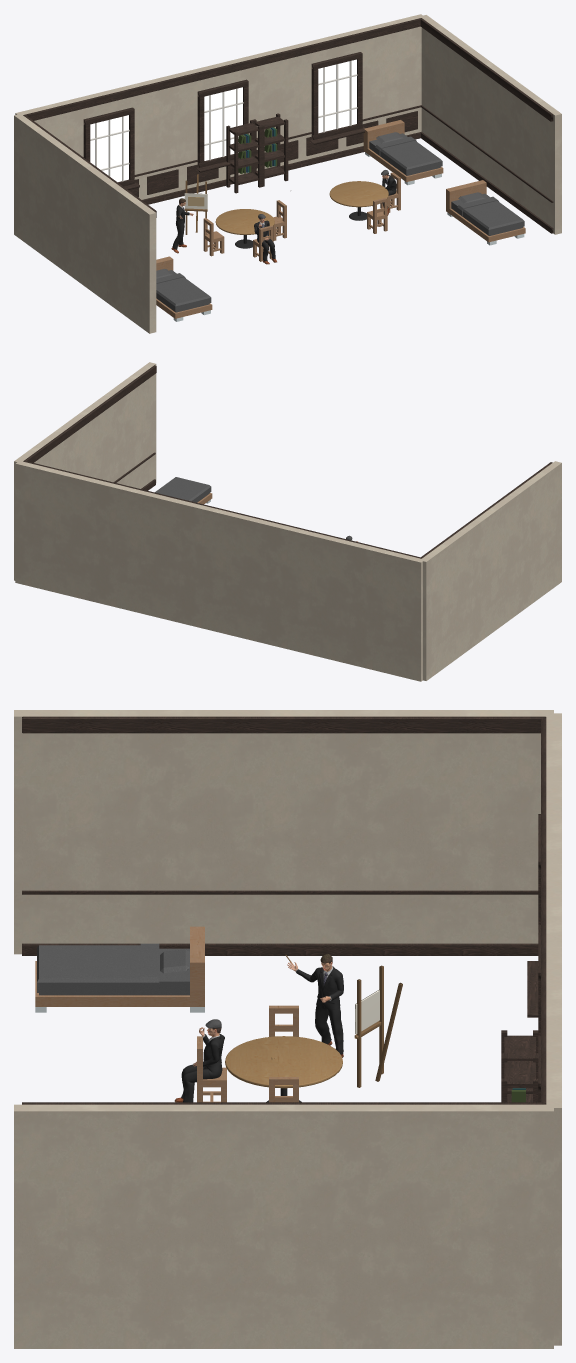
File: hitler.glb
3 views of the same model, one above another, from view 1: azimuth 30°, elevation 25°; view 2: azimuth 150°, elevation 25°; view 3: azimuth 270°, elevation 25° (orthographic). The views are drawn at different scales.
Parts seen in each view (by area): view 1: wall_back, wall_left, wall_right, box.006, pane.002, pane.001, pane, bookcaseOpen(Clone).001, cover.003, cover.001, bookcaseOpen(Clone).002, cover.002 (+17 smaller); view 2: wall_back, wall_left, wall_right, box.008, cover.003, box.006; view 3: wall_right, wall_left, box.007, wall_back, cover.002, box.001, cyl, bedSingle(Clone).002, box.004, box.006, hitler_Human.male_elegantsuit01, box.008 (+4 smaller).
Boxes of the visible parts, x1,y1,x2,y2 form: wall_back: [15, 14, 424, 199]; wall_left: [14, 114, 156, 333]; wall_right: [421, 15, 561, 234]; box.006: [23, 18, 420, 120]; pane.002: [318, 59, 356, 133]; pane.001: [204, 87, 242, 160]; pane: [90, 115, 128, 182]; bookcaseOpen(Clone).001: [226, 120, 261, 193]; cover.003: [457, 196, 524, 234]; cover.001: [375, 136, 442, 174]; bookcaseOpen(Clone).002: [253, 113, 288, 186]; cover.002: [156, 273, 211, 311]; wall_back: [15, 461, 424, 681]; wall_left: [422, 461, 561, 680]; wall_right: [14, 362, 156, 580]; box.008: [23, 365, 156, 462]; cover.003: [155, 477, 211, 502]; box.006: [24, 461, 420, 558]; wall_right: [14, 1104, 553, 1348]; wall_left: [14, 710, 553, 954]; box.007: [22, 716, 545, 733]; wall_back: [546, 713, 561, 1345]; cover.002: [37, 943, 159, 993]; box.001: [22, 943, 538, 955]; cyl: [225, 1036, 342, 1088]; bedSingle(Clone).002: [35, 926, 204, 1012]; box.004: [22, 890, 538, 894]; box.006: [541, 717, 546, 1104]; hitler_Human.male_elegantsuit01: [296, 966, 343, 1054]; box.008: [22, 1102, 545, 1104].
Size of what is drawn, in the model's own units: 14.48 by 4.04 by 8.36.
48 materials, 36 textured.
